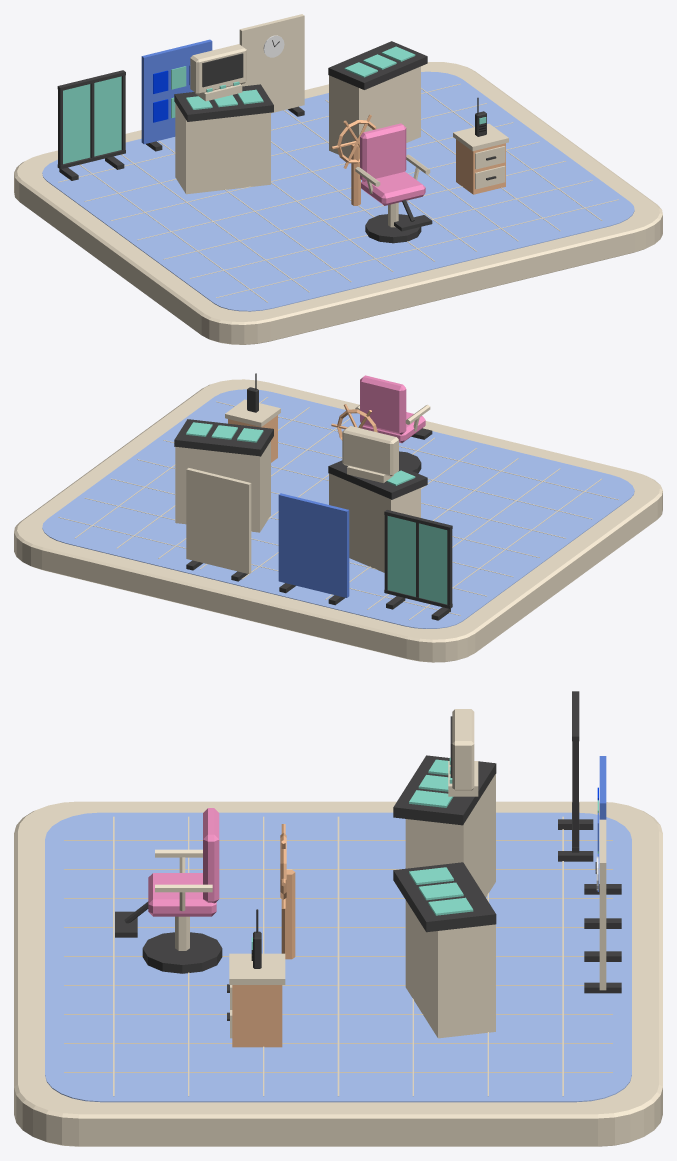
Rendered from room.fbx.
The picture shows the model from 3 angles, top to bottom: view 1: azimuth 30°, elevation 25°; view 2: azimuth 150°, elevation 25°; view 3: azimuth 270°, elevation 25°; orthographic projection. The views are drawn at different scales.
Parts seen in each view (by area): view 1: COM-02 Floor Surface, COM-01 Rounded Base Direct, Console, Console.001, Panel.003, Panel.002, Back, Forward blue glazing.001, Forward blue glazing, Panel.001, Panel, Seat (+9 smaller); view 2: COM-02 Floor Surface, COM-01 Rounded Base Direct, Panel.002, Panel.003, Console, Console.001, Housing, Back, Forward blue glazing, Forward blue glazing.001, Panel.001, Panel (+5 smaller); view 3: COM-02 Floor Surface, COM-01 Rounded Base Direct, Console.001, Console, Panel.001, Body, Panel, Base, Seat, Housing, Top, Back (+4 smaller).
Part boxes in pixels (bbox=[...]): COM-02 Floor Surface: bbox=[42, 71, 634, 311]; COM-01 Rounded Base Direct: bbox=[14, 62, 662, 344]; Console: bbox=[175, 103, 270, 194]; Console.001: bbox=[329, 66, 420, 157]; Panel.003: bbox=[239, 14, 304, 113]; Panel.002: bbox=[141, 39, 212, 144]; Back: bbox=[360, 123, 406, 181]; Forward blue glazing.001: bbox=[94, 76, 121, 156]; Forward blue glazing: bbox=[63, 84, 90, 163]; Panel.001: bbox=[328, 41, 427, 89]; Panel: bbox=[174, 84, 273, 121]; Seat: bbox=[361, 171, 425, 205]; COM-02 Floor Surface: bbox=[42, 389, 634, 628]; COM-01 Rounded Base Direct: bbox=[14, 379, 662, 662]; Panel.002: bbox=[278, 493, 349, 597]; Panel.003: bbox=[186, 468, 251, 573]; Console: bbox=[329, 473, 420, 572]; Console.001: bbox=[175, 441, 270, 532]; Housing: bbox=[342, 426, 398, 476]; Back: bbox=[360, 375, 406, 434]; Forward blue glazing: bbox=[419, 523, 447, 604]; Forward blue glazing.001: bbox=[387, 516, 415, 596]; Panel.001: bbox=[174, 419, 273, 456]; Panel: bbox=[328, 460, 427, 499]; COM-02 Floor Surface: bbox=[45, 812, 631, 1102]; COM-01 Rounded Base Direct: bbox=[14, 801, 662, 1146]; Console.001: bbox=[405, 900, 495, 1038]; Console: bbox=[405, 774, 495, 897]; Panel.001: bbox=[393, 862, 496, 932]; Body: bbox=[232, 985, 282, 1047]; Panel: bbox=[393, 755, 496, 825]; Base: bbox=[142, 932, 222, 973]; Seat: bbox=[148, 873, 216, 916]; Housing: bbox=[452, 709, 474, 790]; Top: bbox=[229, 953, 285, 984]; Back: bbox=[203, 808, 219, 903].
Size of the model in its own units: 600 by 188 by 520.
